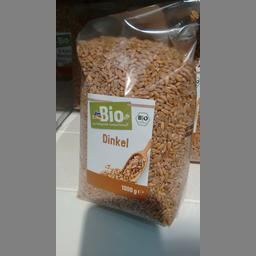cereal: (76, 34, 196, 224)
